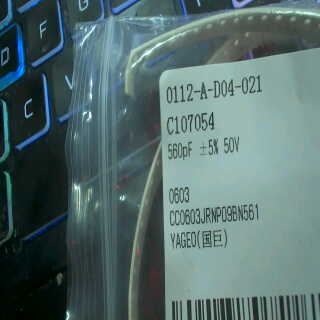560pF: (166, 139, 194, 162)
